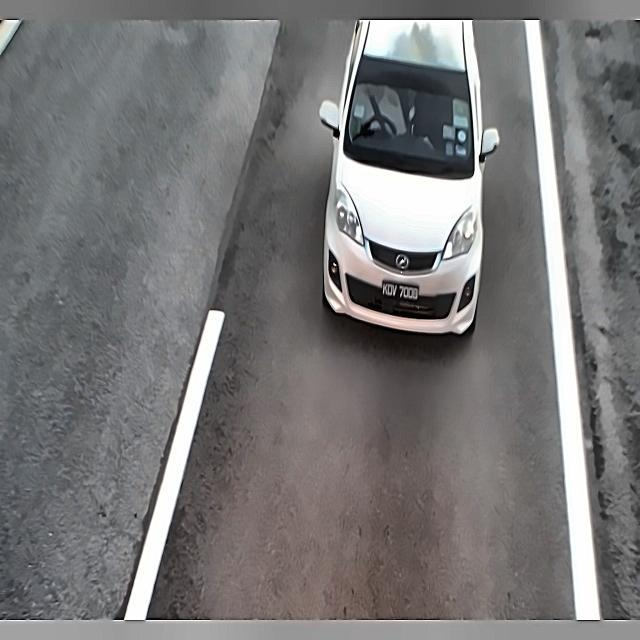car: (375, 277, 423, 307)
